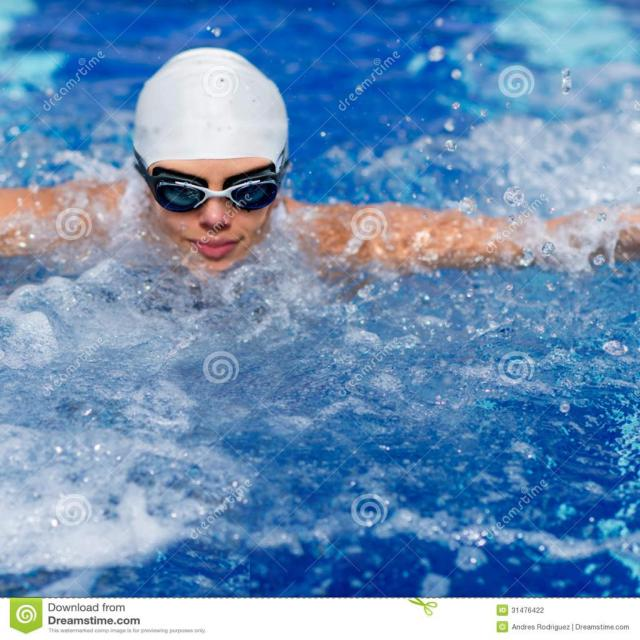nomask: (149, 151, 267, 275)
